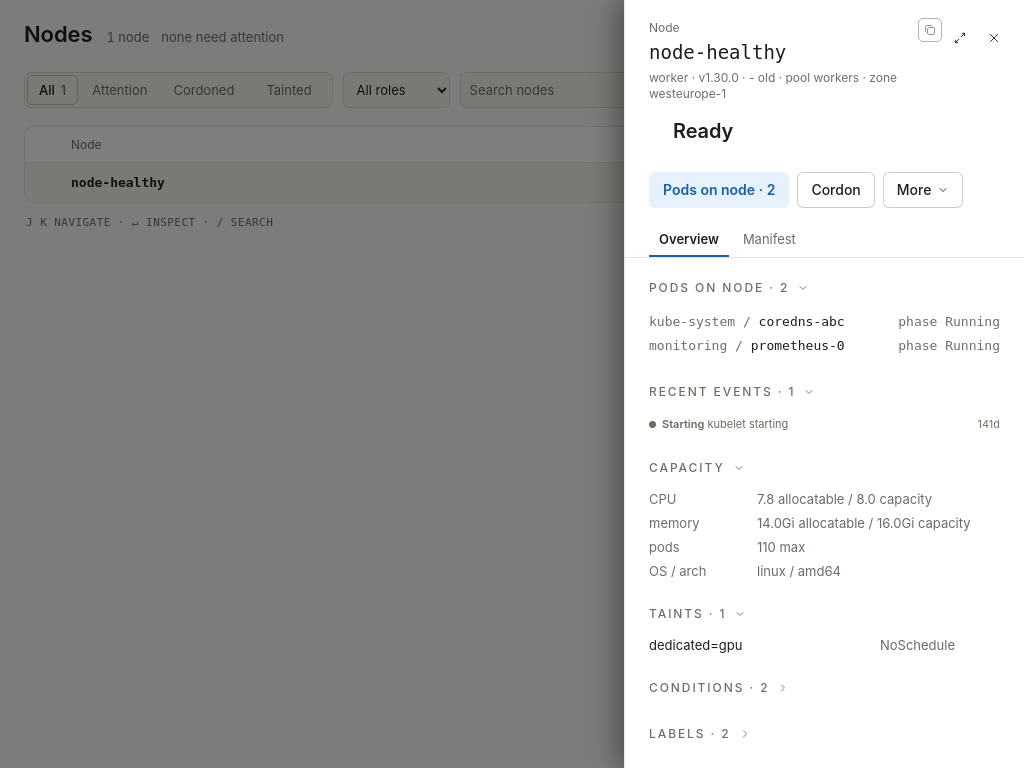
Test case: NodesView › labels section is collapsed by default, expandable
This screenshot has width=1024, height=768.
Expected: the text "kubernetes.io/hostname=node-healthy" is not shown
Click the button "Labels · 2". click: (677, 734)
box: [649, 722, 1000, 746]
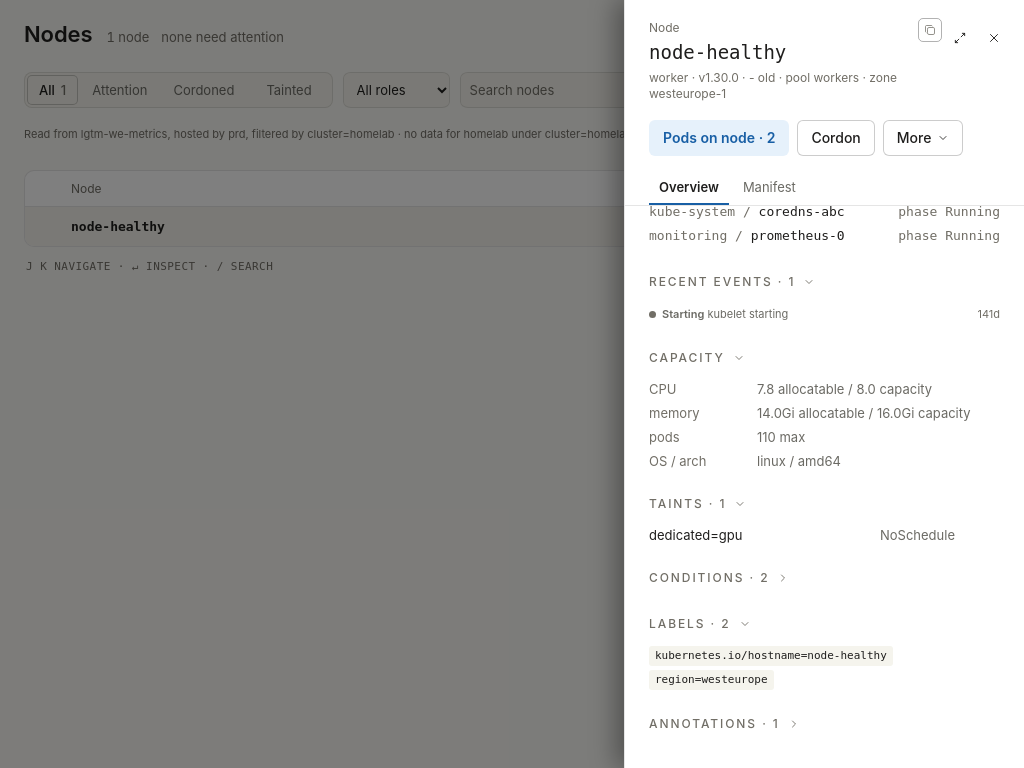
Now the text "kubernetes.io/hostname=node-healthy" is shown, box [649, 646, 893, 666]
